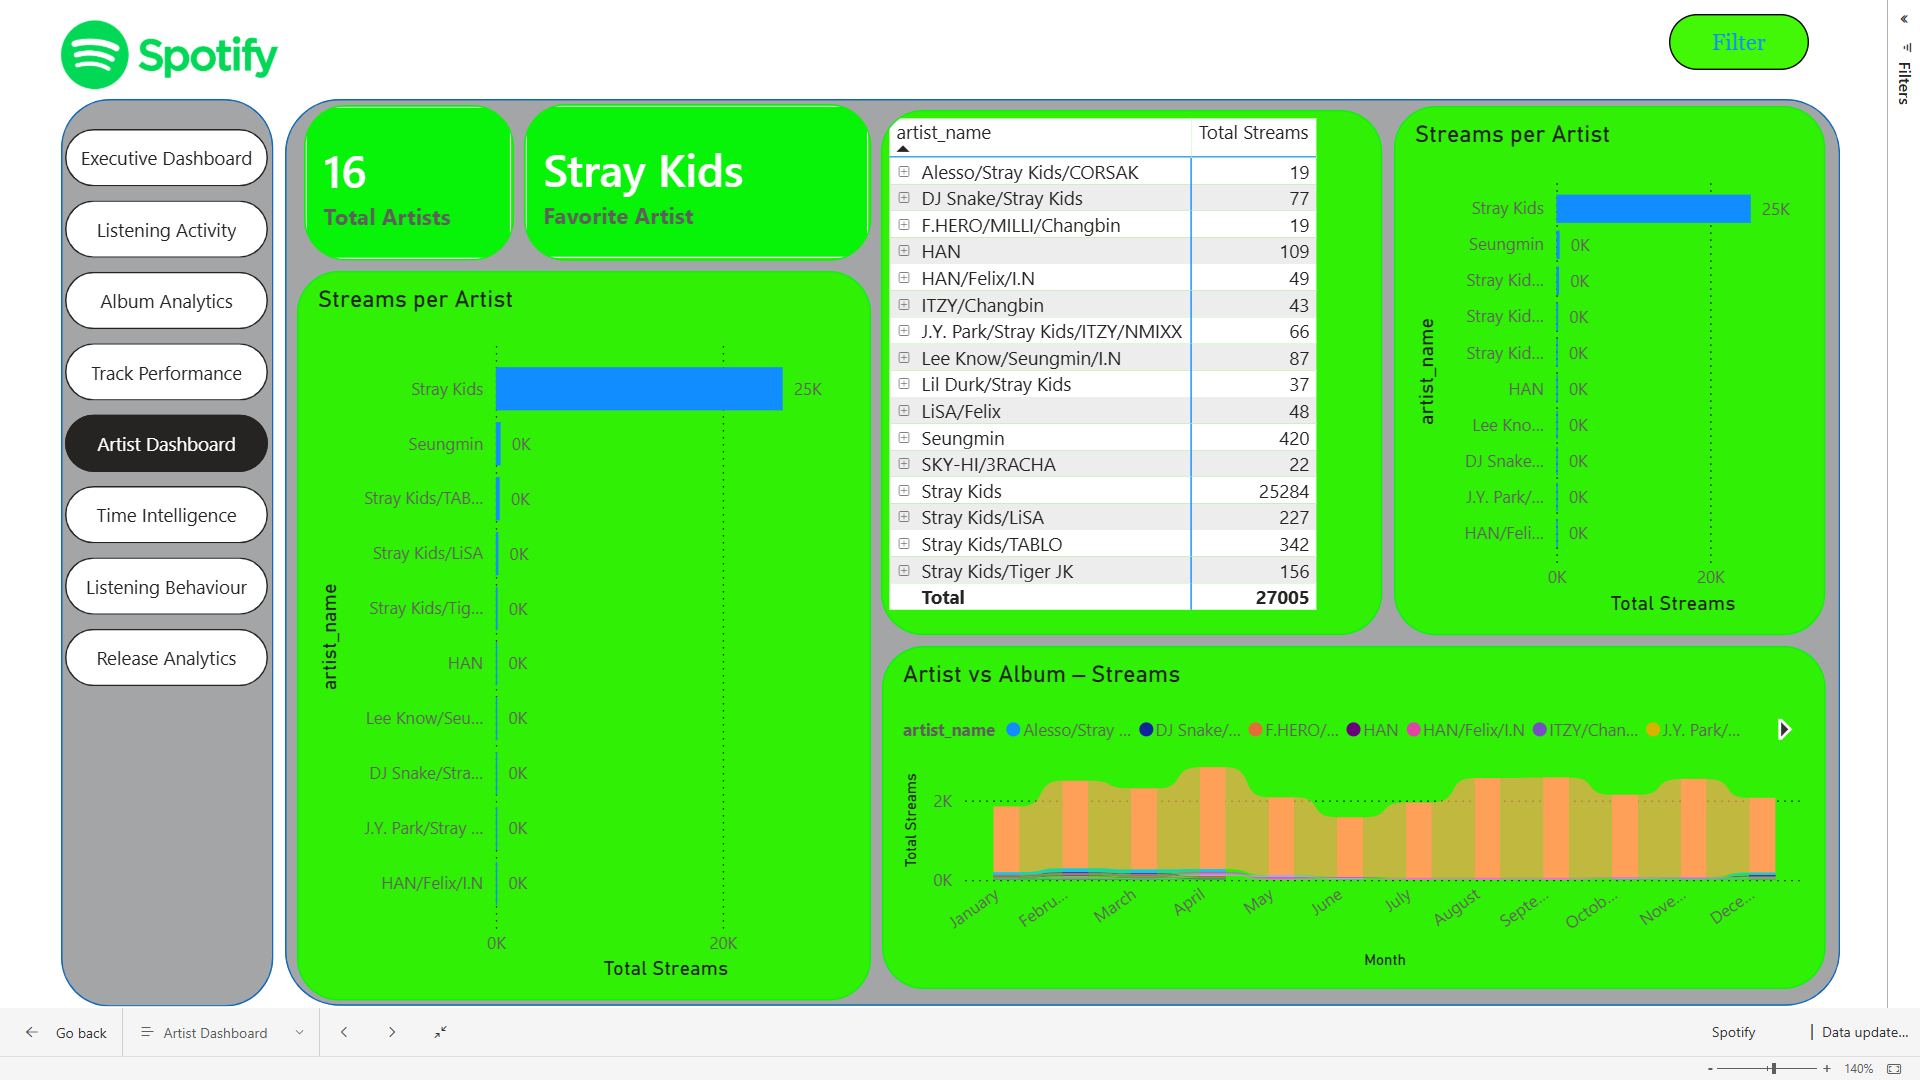

This screenshot's page, from the dashboard's own definition file:
{"tool":"powerbi","page":{"name":"Artist Dashboard","canvas":[1280,720],"ordinal":4},"visuals":[{"type":"shape","box":[169.3,70.6,1110.7,647.6],"z":0,"group":"g1"},{"type":"shape","box":[9,70.7,151.7,648.4],"z":0,"group":"g2"},{"type":"ribbonChart","title":"Artist vs Album – Streams","fields":{"Category":["spotify_skz_streaming.Date.Variation.Date Hierarchy.Month"],"Series":["spotify_skz_streaming.artist_name"],"Y":["Custome Measure.Total Streams"]},"box":[595.9,461.1,673.7,245.1],"z":31,"group":"g1"},{"type":"cardVisual","fields":{"Data":["Custome Measure.Favorite Artist"]},"box":[340.3,74.3,247.6,111.8],"z":62,"group":"g1"},{"type":"barChart","title":"Streams per Artist","fields":{"Category":["spotify_skz_streaming.artist_name"],"Y":["Custome Measure.Total Streams"]},"box":[961.2,75.5,307.8,377.8],"z":125,"group":"g1"},{"type":"cardVisual","fields":{"Data":["Custome Measure.Total Artists"]},"box":[182.7,75.2,149.7,111.1],"z":250,"group":"g1"},{"type":"barChart","title":"Listening Hours per Artist","fields":{"Category":["spotify_skz_streaming.artist_name"],"Y":["Custome Measure.Listening Hours"]},"box":[198.9,240,309,379.8],"z":500,"group":"g1"},{"type":"pivotTable","fields":{"Rows":["spotify_skz_streaming.artist_name","spotify_skz_counts_album.album_name"],"Values":["Custome Measure.Total Streams"]},"box":[595.3,78.1,358.2,375.2],"z":750,"group":"g1"},{"type":"pageNavigator","box":[11.7,92.2,146,403],"z":1000,"group":"g2"},{"type":"barChart","title":"Streams per Artist","fields":{"Category":["spotify_skz_streaming.artist_name"],"Y":["Custome Measure.Total Streams"]},"box":[178,193.6,410.1,521.2],"z":1000,"group":"g1"},{"type":"image","title":"Brand Name","box":[8.2,3.6,158.2,70.9],"z":3000},{"type":"group","id":"g1","title":"Main","box":[169.3,70.6,1110.7,647.6],"z":5000},{"type":"actionButton","title":"Filter","box":[1158,9.8,100,40],"z":8000},{"type":"group","id":"g2","title":"Navigation","box":[9,70.7,151.7,648.4],"z":9000}]}

Visuals, with their boxes on the page's 1280x720 design canvas (x1, y1, x2, y2). These are canvas units, not pixel positions in the 1920x1080 screenshot, which may show the page scaled, cropped or inside an application window:
shape: 169, 71, 1280, 718
shape: 9, 71, 161, 719
"Artist vs Album – Streams" ribbonChart: 596, 461, 1270, 706
cardVisual - Custome Measure.Favorite Artist: 340, 74, 588, 186
"Streams per Artist" barChart: 961, 76, 1269, 453
cardVisual - Custome Measure.Total Artists: 183, 75, 332, 186
"Listening Hours per Artist" barChart: 199, 240, 508, 620
pivotTable - spotify_skz_streaming.artist_name x spotify_skz_counts_album.album_name: 595, 78, 954, 453
pageNavigator: 12, 92, 158, 495
"Streams per Artist" barChart: 178, 194, 588, 715
"Brand Name" image: 8, 4, 166, 74
"Main" group: 169, 71, 1280, 718
"Filter" actionButton: 1158, 10, 1258, 50
"Navigation" group: 9, 71, 161, 719
